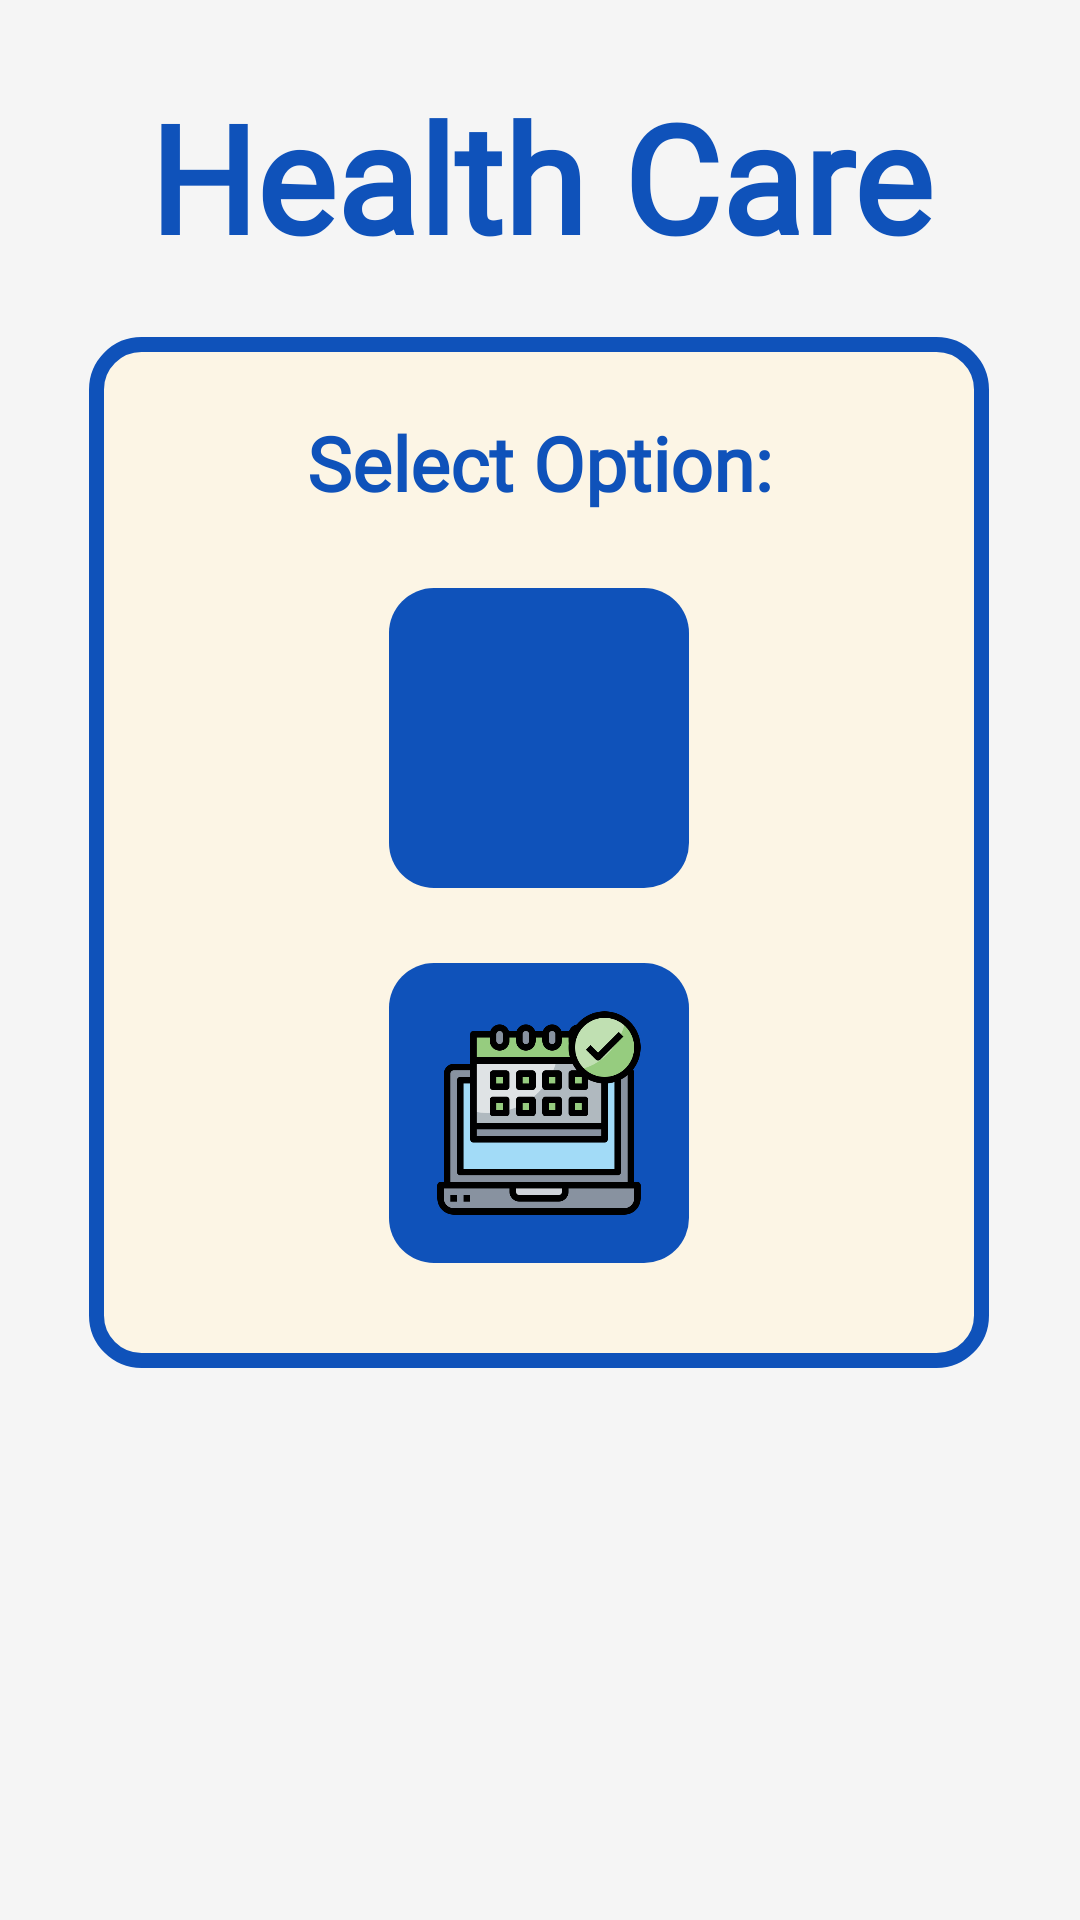

Screen size 1080 x 1920. Icon name, then its center in pixels as point (x, y):
bookings: point (539, 1113)
